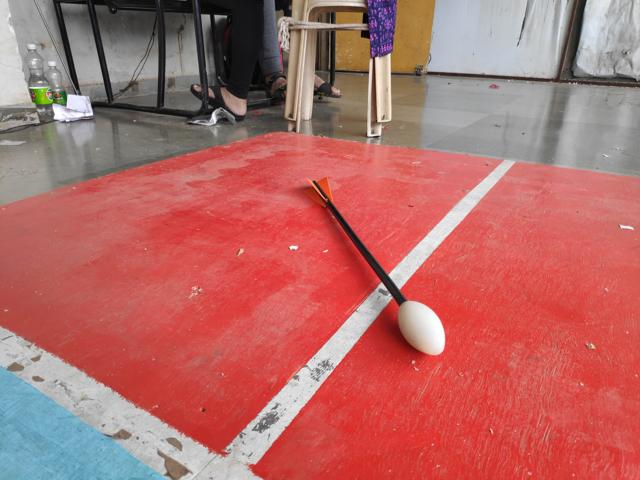Head: (401, 296, 454, 356)
Tail: (304, 174, 332, 210)
